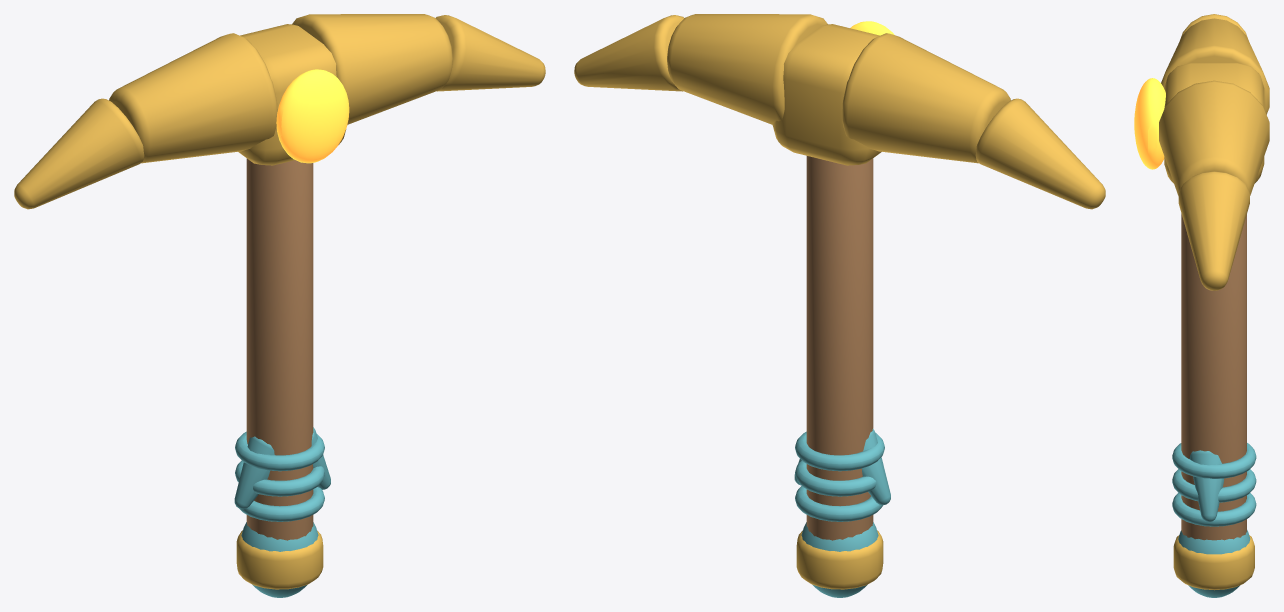
The model's file is pickaxe_gold.glb.
The picture shows the model from 3 angles, left to right: view 1: azimuth 30°, elevation 25°; view 2: azimuth 150°, elevation 25°; view 3: azimuth 270°, elevation 25°; orthographic projection. The views are drawn at different scales.
Parts seen in each view (by area): view 1: Handle.003, Inner pick.006, Inner pick.007, Curved pick tip.006, Amber gem, Curved pick tip.007, Head hub.003, Handle cap.001, Grip wrap.011, Rounded grip end.003, Grip wrap.009, Grip wrap.010 (+1 smaller); view 2: Handle.003, Inner pick.006, Inner pick.007, Head hub.003, Curved pick tip.006, Curved pick tip.007, Handle cap.001, Grip wrap.011, Grip wrap.009, Rounded grip end.003, Grip wrap.010, Teal ribbon; view 3: Handle.003, Inner pick.007, Curved pick tip.007, Inner pick.006, Handle cap.001, Head hub.003, Amber gem, Grip wrap.011, Teal ribbon.001, Rounded grip end.003, Grip wrap.009, Grip wrap.010 (+1 smaller).
Boxes of the visible parts, x1,y1,x2,y2 form: Handle.003: (246,158,313,540); Inner pick.006: (109,33,277,163); Inner pick.007: (292,14,452,124); Curved pick tip.006: (14,98,144,209); Amber gem: (276,69,349,163); Curved pick tip.007: (436,15,545,91); Head hub.003: (238,24,346,165); Handle cap.001: (236,530,323,589); Grip wrap.011: (235,431,324,471); Rounded grip end.003: (241,522,318,597); Grip wrap.009: (239,487,324,521); Grip wrap.010: (235,460,324,496); Handle.003: (806,156,873,540); Inner pick.006: (842,33,1010,163); Inner pick.007: (667,14,827,124); Head hub.003: (772,24,881,165); Curved pick tip.006: (975,98,1105,209); Curved pick tip.007: (574,15,683,91); Handle cap.001: (796,530,883,589); Grip wrap.011: (795,431,884,471); Grip wrap.009: (795,486,882,521); Rounded grip end.003: (801,522,878,597); Grip wrap.010: (795,460,876,496); Teal ribbon: (862,429,890,505); Handle.003: (1181,213,1246,540); Inner pick.007: (1159,80,1269,195); Curved pick tip.007: (1178,171,1249,290); Inner pick.006: (1161,18,1269,114); Handle cap.001: (1173,535,1254,590); Head hub.003: (1164,63,1264,183); Amber gem: (1134,78,1165,169); Grip wrap.011: (1172,443,1256,478); Teal ribbon.001: (1189,450,1223,521); Rounded grip end.003: (1178,530,1250,597); Grip wrap.009: (1172,493,1256,526); Grip wrap.010: (1172,469,1256,502).
Size of the model in its own units: 2.17 by 2.23 by 0.5162.
